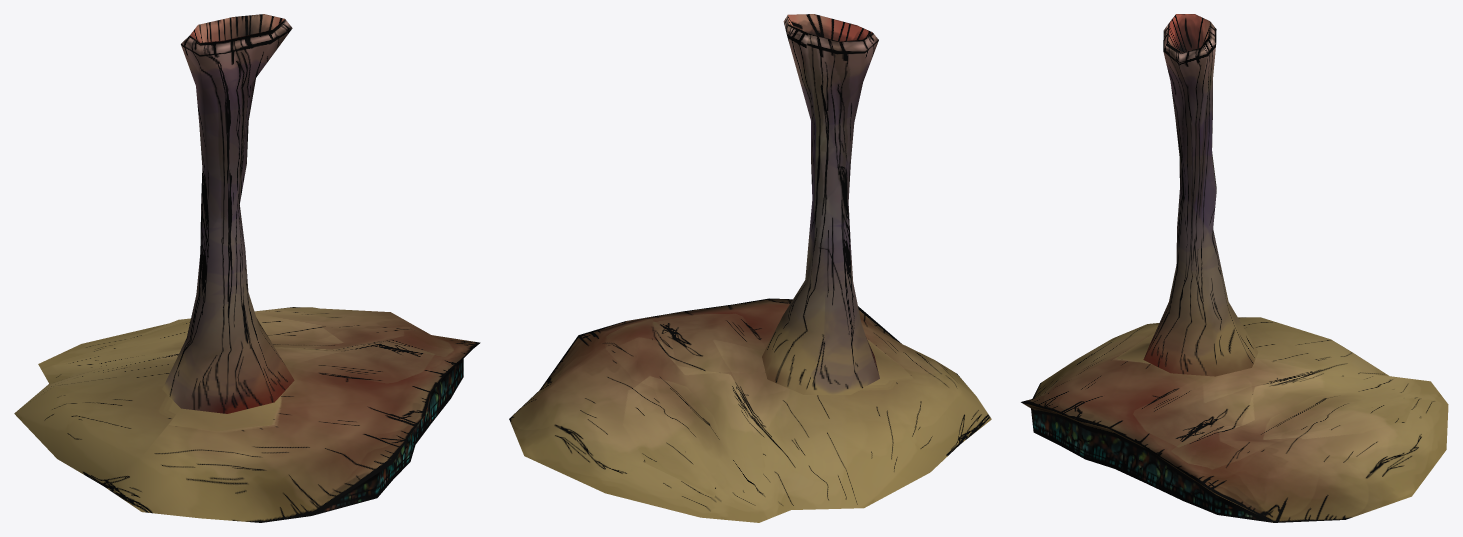
The model's file is smokestack_04.fbx.
3 views of the same model, side by side, from view 1: azimuth 30°, elevation 25°; view 2: azimuth 150°, elevation 25°; view 3: azimuth 270°, elevation 25° (orthographic). The views are drawn at different scales.
Visible parts, largest first — view 1: SmokeStack_04; view 2: SmokeStack_04; view 3: SmokeStack_04.
Part boxes in pixels (left/top/right/bottom): SmokeStack_04: left=14, top=14, right=480, bottom=522; SmokeStack_04: left=509, top=14, right=991, bottom=522; SmokeStack_04: left=1021, top=14, right=1448, bottom=522.
Bounding box in the file's own units: 22.23 × 21.92 × 22.62.
